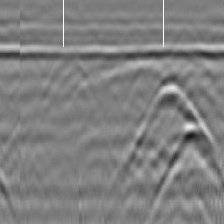Utility: (123, 76, 224, 201)
